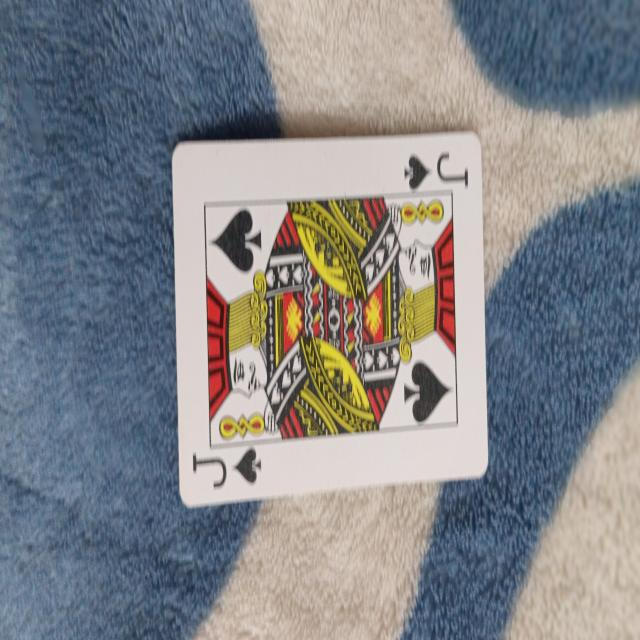JS: (178, 119, 483, 510)
